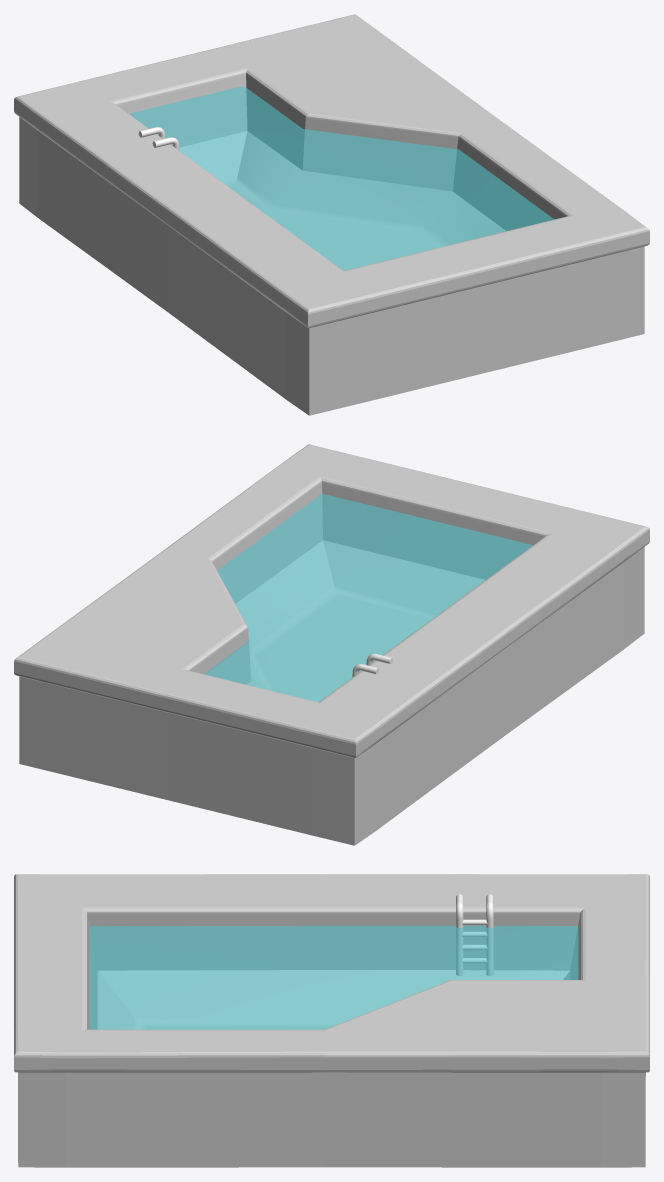
File: pool.fbx
The picture shows the model from 3 angles, top to bottom: view 1: azimuth 30°, elevation 25°; view 2: azimuth 150°, elevation 25°; view 3: azimuth 270°, elevation 25°; orthographic projection. The views are drawn at different scales.
Parts seen in each view (by area): view 1: polySurface1; view 2: polySurface1; view 3: polySurface1.
Boxes of the visible parts, bbox=[...] form: polySurface1: bbox=[14, 14, 649, 415]; polySurface1: bbox=[14, 444, 649, 845]; polySurface1: bbox=[14, 874, 649, 1167].
Size of the model in its own units: 65.02 by 20.5 by 96.74.
